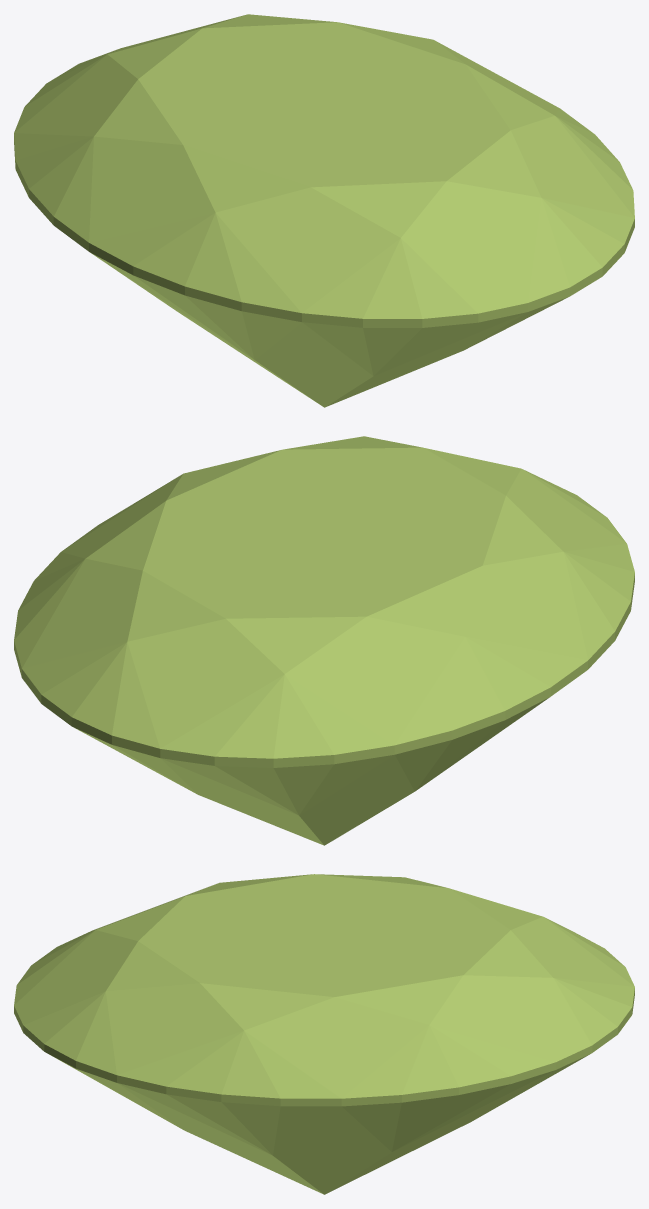
Rendered from stone-peridot.glb.
3 views of the same model, one above another, from view 1: azimuth 30°, elevation 25°; view 2: azimuth 150°, elevation 25°; view 3: azimuth 270°, elevation 25° (orthographic). The views are drawn at different scales.
Visible parts, largest first — view 1: Gemstone Peridot; view 2: Gemstone Peridot; view 3: Gemstone Peridot.
Part boxes in pixels (x1=…): Gemstone Peridot: x1=14, y1=14, x2=634, y2=407; Gemstone Peridot: x1=14, y1=436, x2=634, y2=845; Gemstone Peridot: x1=14, y1=874, x2=634, y2=1194.
Bounding box in the file's own units: 2 × 1.18 × 2.55.
